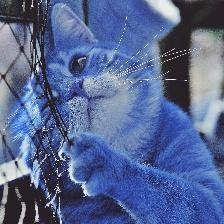kedo: (43, 3, 224, 224)
